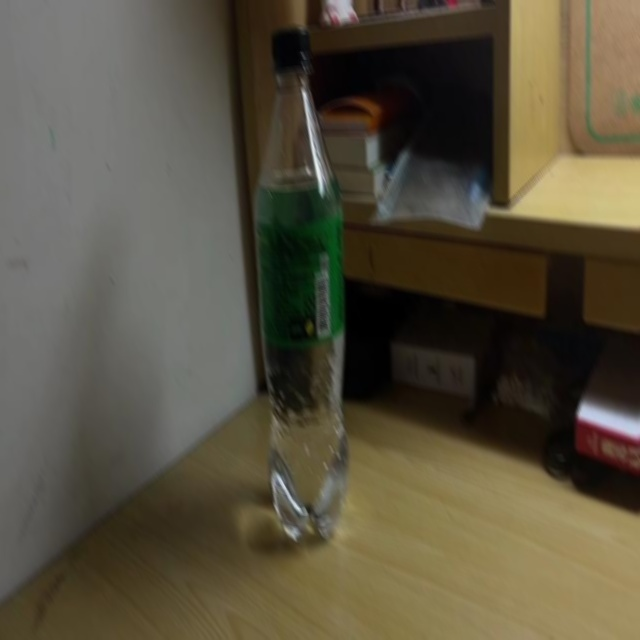Sprite: (256, 27, 351, 540)
